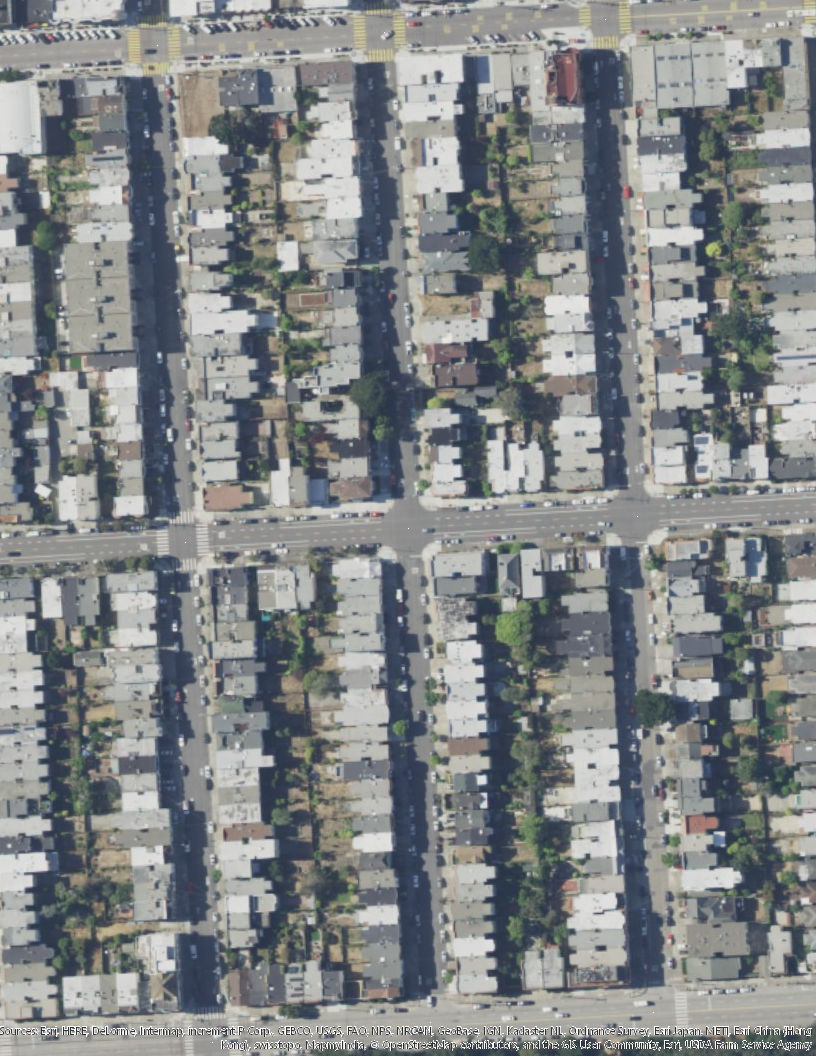zebracross: (352, 13, 367, 49), (126, 27, 141, 63), (392, 13, 407, 47), (675, 991, 688, 1030), (617, 1, 632, 34), (194, 524, 209, 556), (137, 13, 167, 29), (154, 527, 170, 556), (367, 1, 395, 17), (167, 27, 181, 59), (192, 1006, 225, 1019), (367, 48, 394, 63), (172, 556, 196, 572), (169, 509, 194, 524), (591, 35, 619, 48), (143, 62, 171, 75), (183, 1021, 193, 1056), (803, 1, 815, 24), (578, 4, 591, 25)
